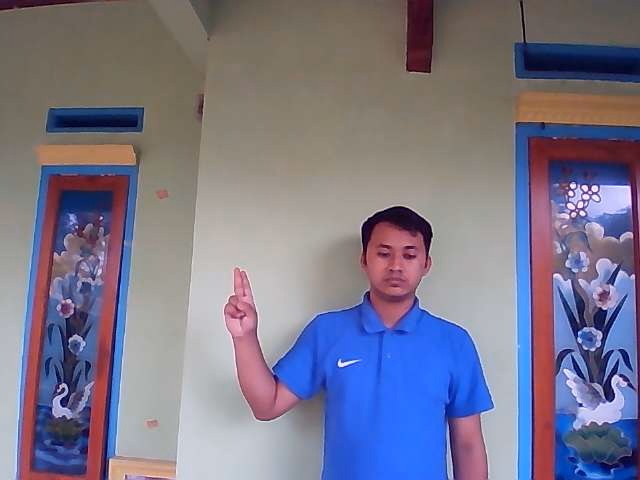U: (223, 267, 258, 334)
